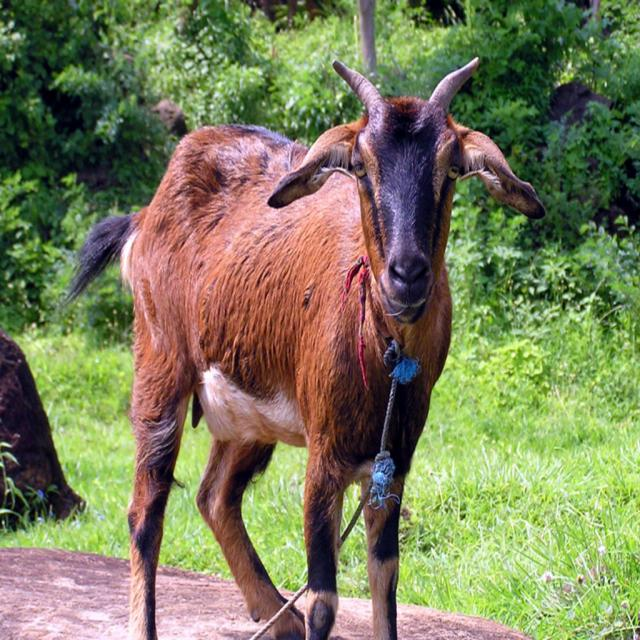Goat: (60, 56, 547, 640)
